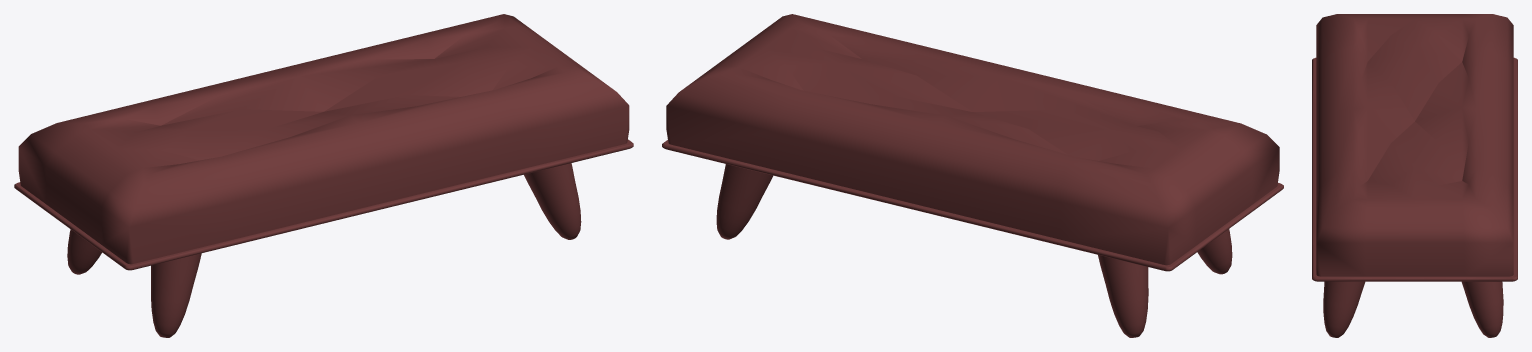
The model's file is callesillon.fbx.
3 views of the same model, side by side, from view 1: azimuth 30°, elevation 25°; view 2: azimuth 150°, elevation 25°; view 3: azimuth 270°, elevation 25° (orthographic). The views are drawn at different scales.
Visible parts, largest first — view 1: sillon; view 2: sillon; view 3: sillon.
Boxes of the visible parts, box(x1,y1,x2,y2) form: sillon: box(14, 14, 633, 337); sillon: box(662, 14, 1283, 337); sillon: box(1312, 14, 1517, 337).
Size of the model in its own units: 0.0212 by 0.00636 by 0.00834.
